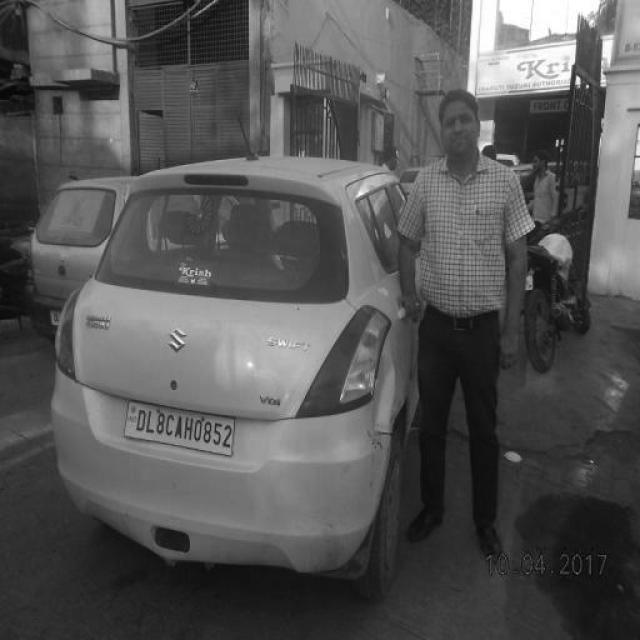car damage: (369, 355, 392, 460)
